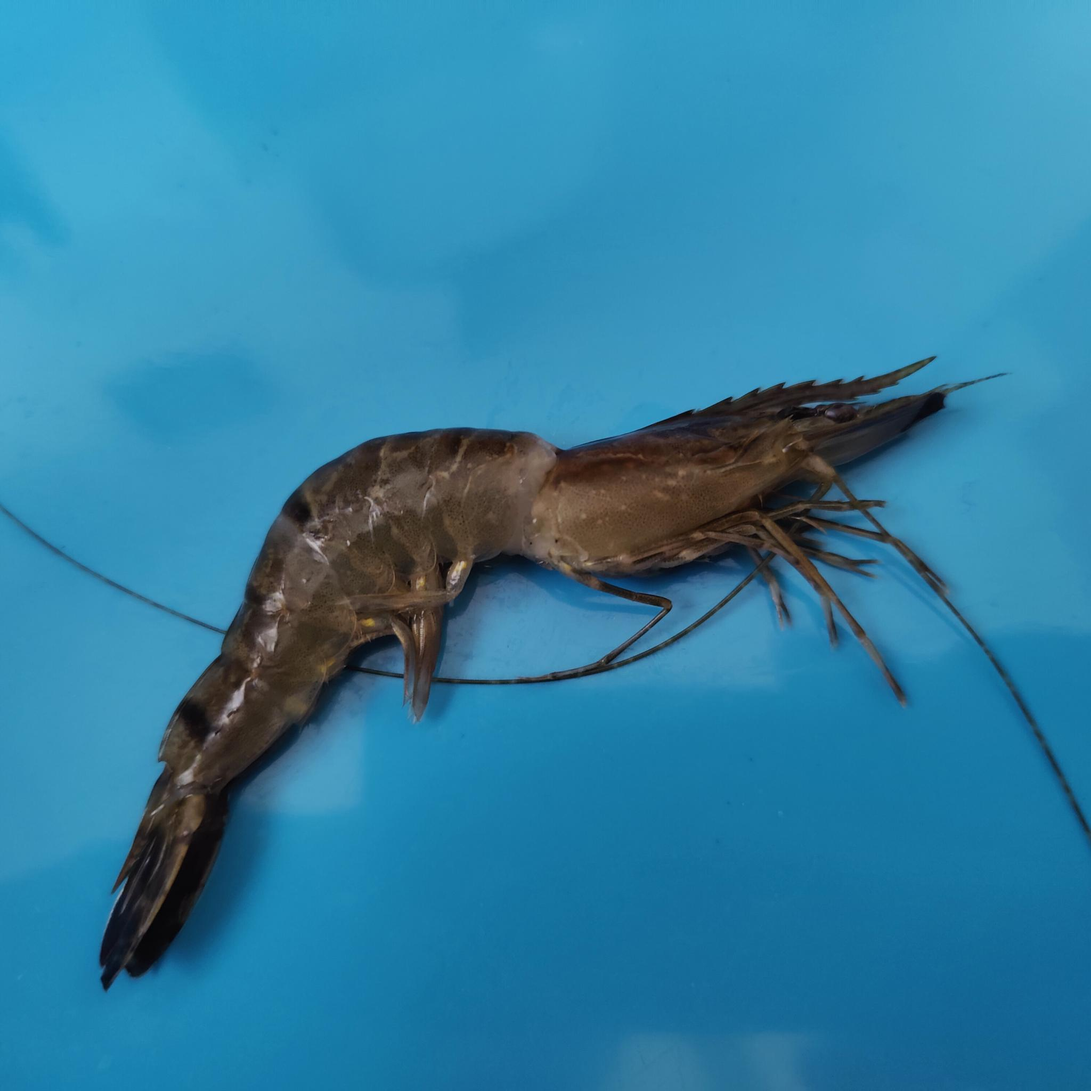whitespot: (429, 438, 728, 538)
